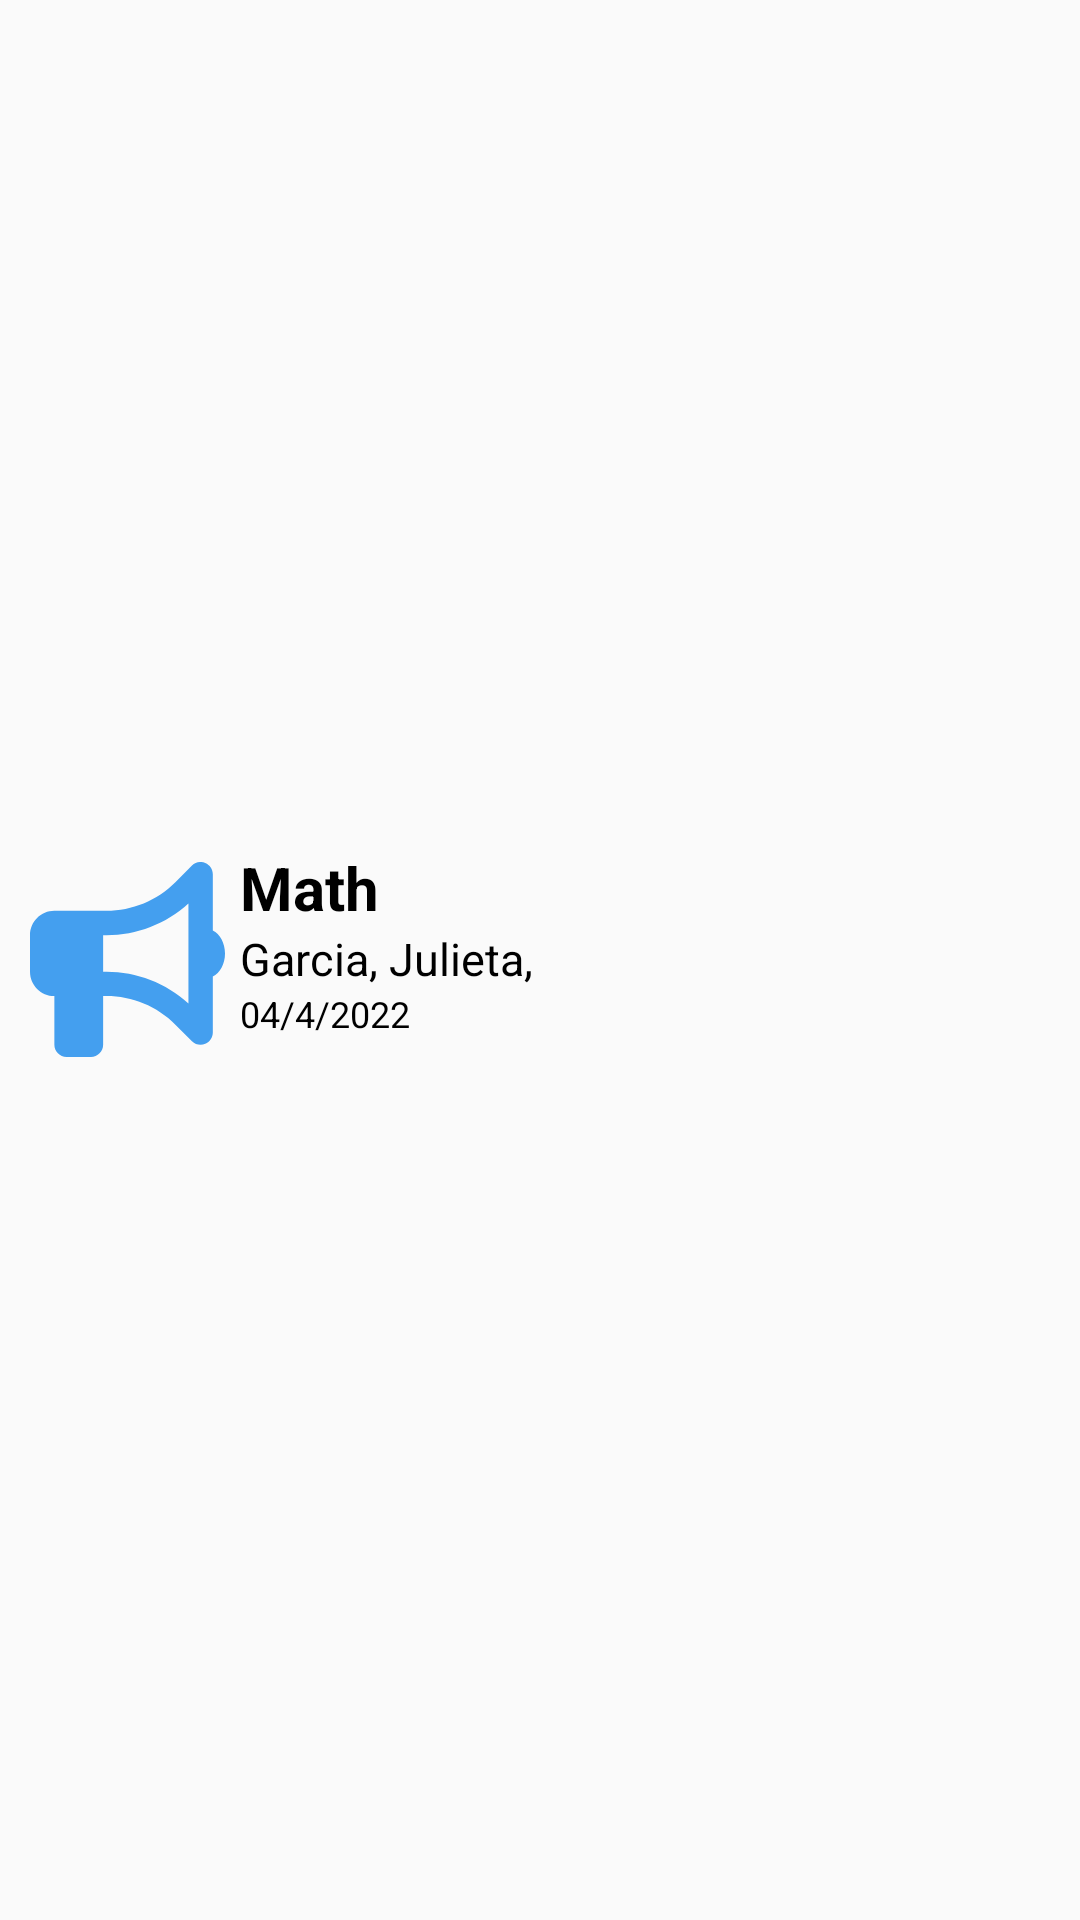

Icons on this 1080px×1920px Android screen, each with the point to tap as [x,y]:
bullhorn: [127,959]
